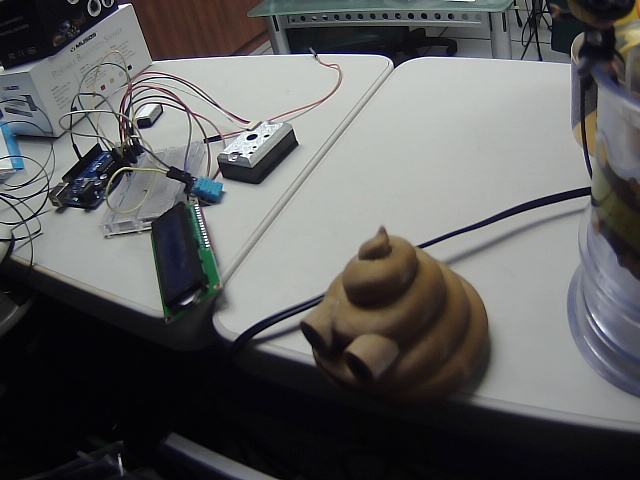shit: (286, 221, 496, 420)
